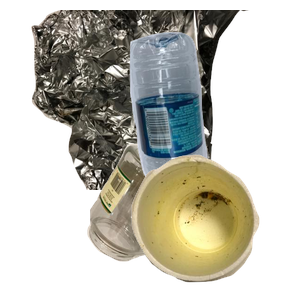glass: (85, 141, 275, 300)
metal: (29, 10, 269, 190)
plastic: (127, 29, 300, 209)
trash: (129, 152, 300, 300)
